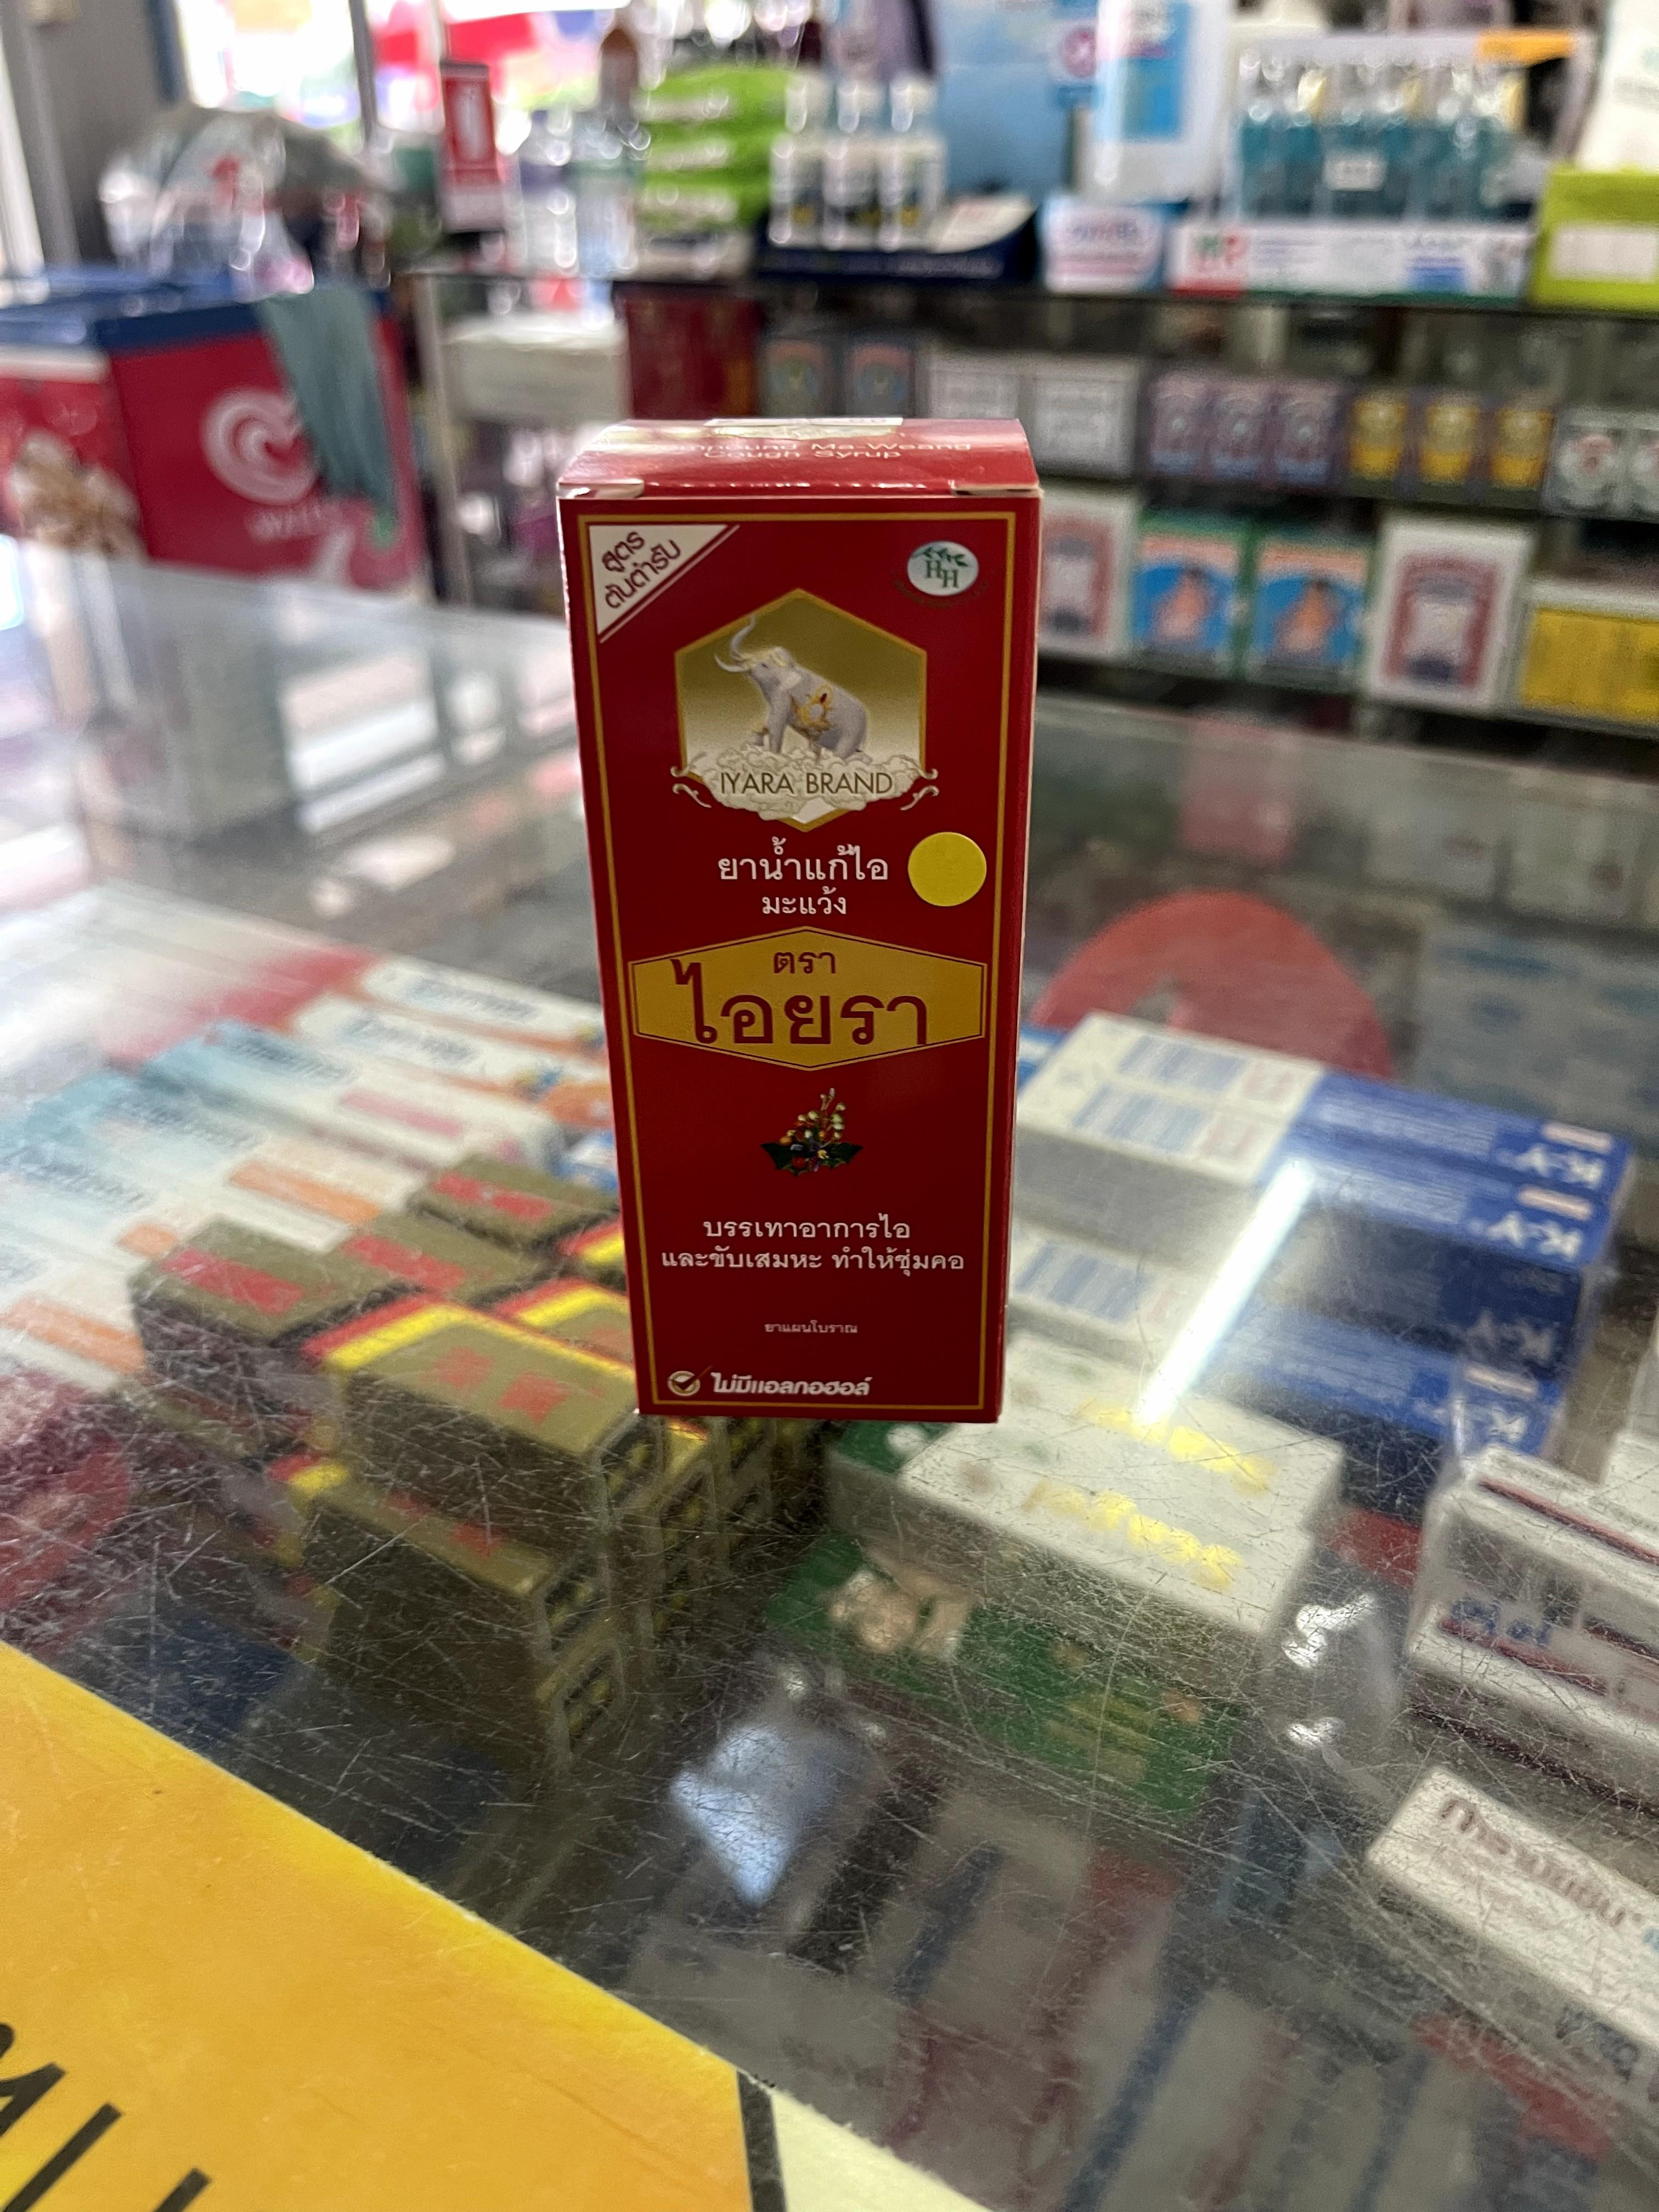Iyara: (568, 423, 1040, 1413)
